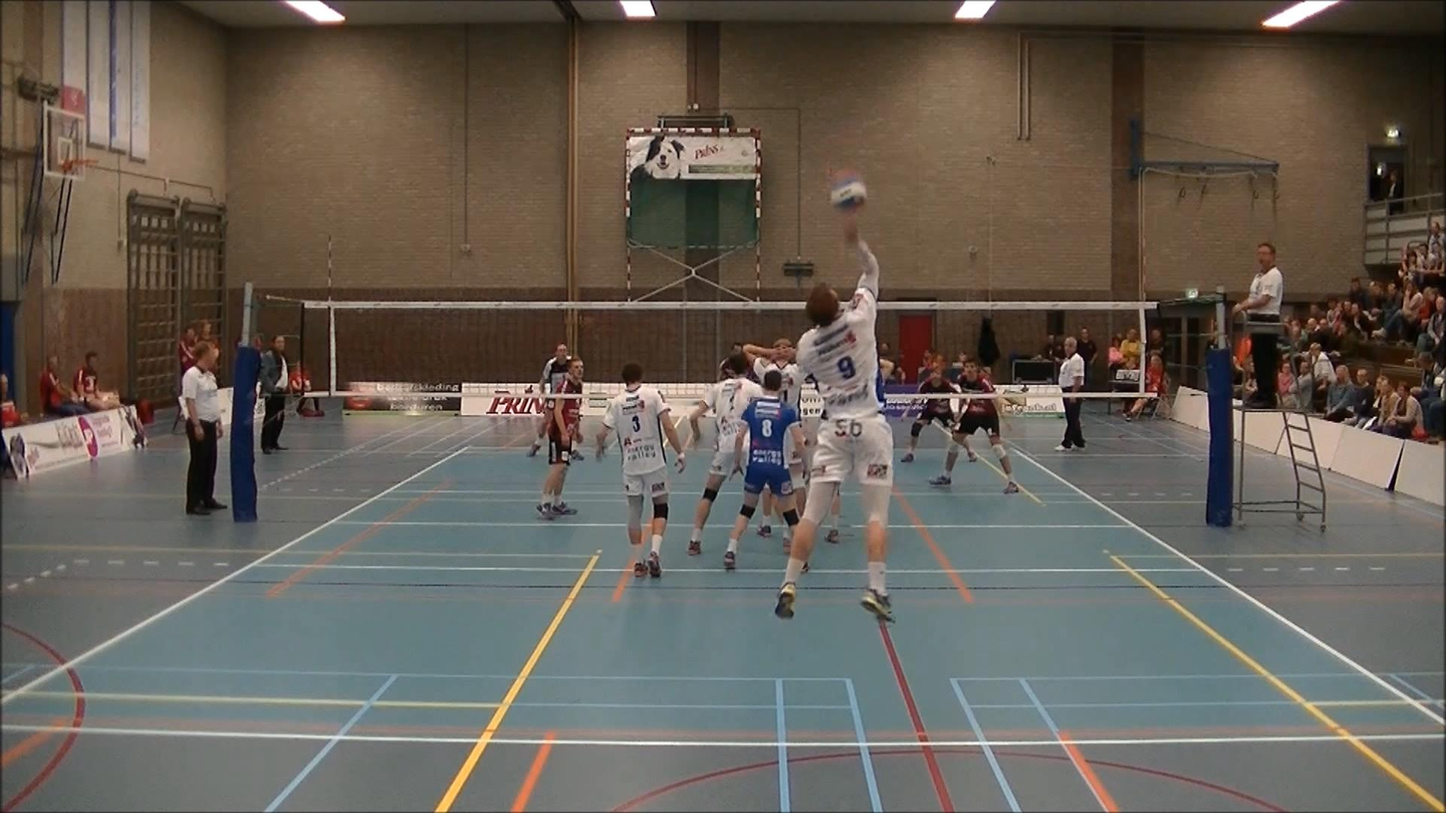battuta: (773, 212, 900, 628)
